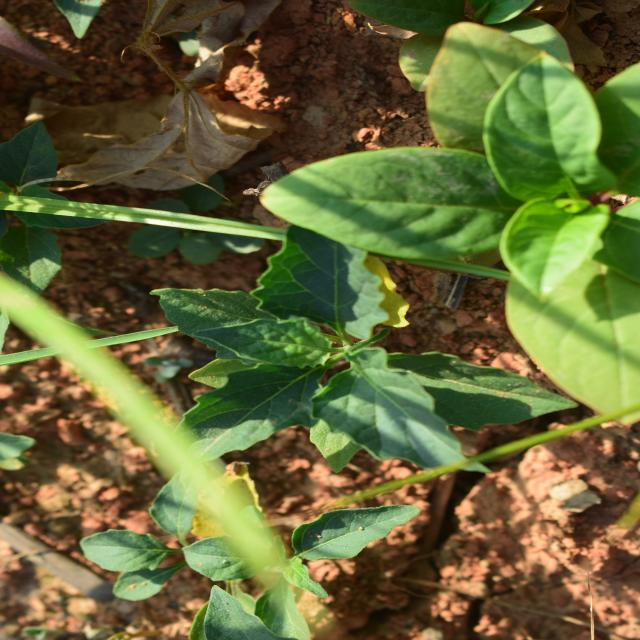Black_nightshade: (178, 170, 386, 478), (22, 101, 181, 405)
